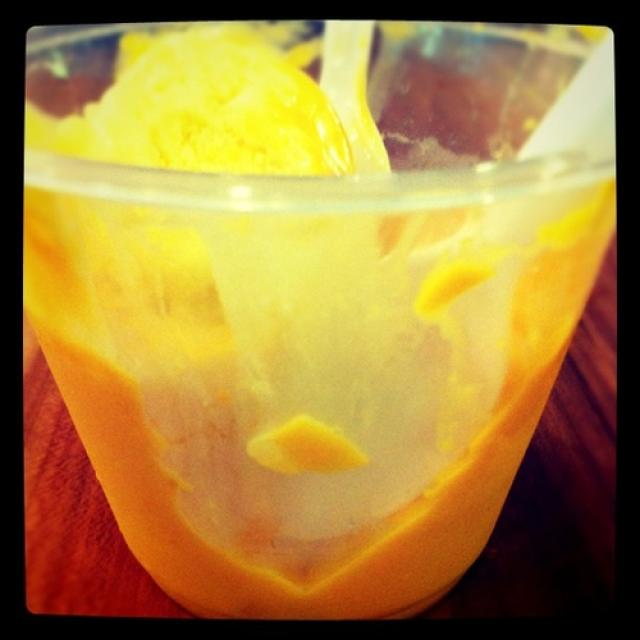蛋糕甜品: (44, 37, 602, 611)
